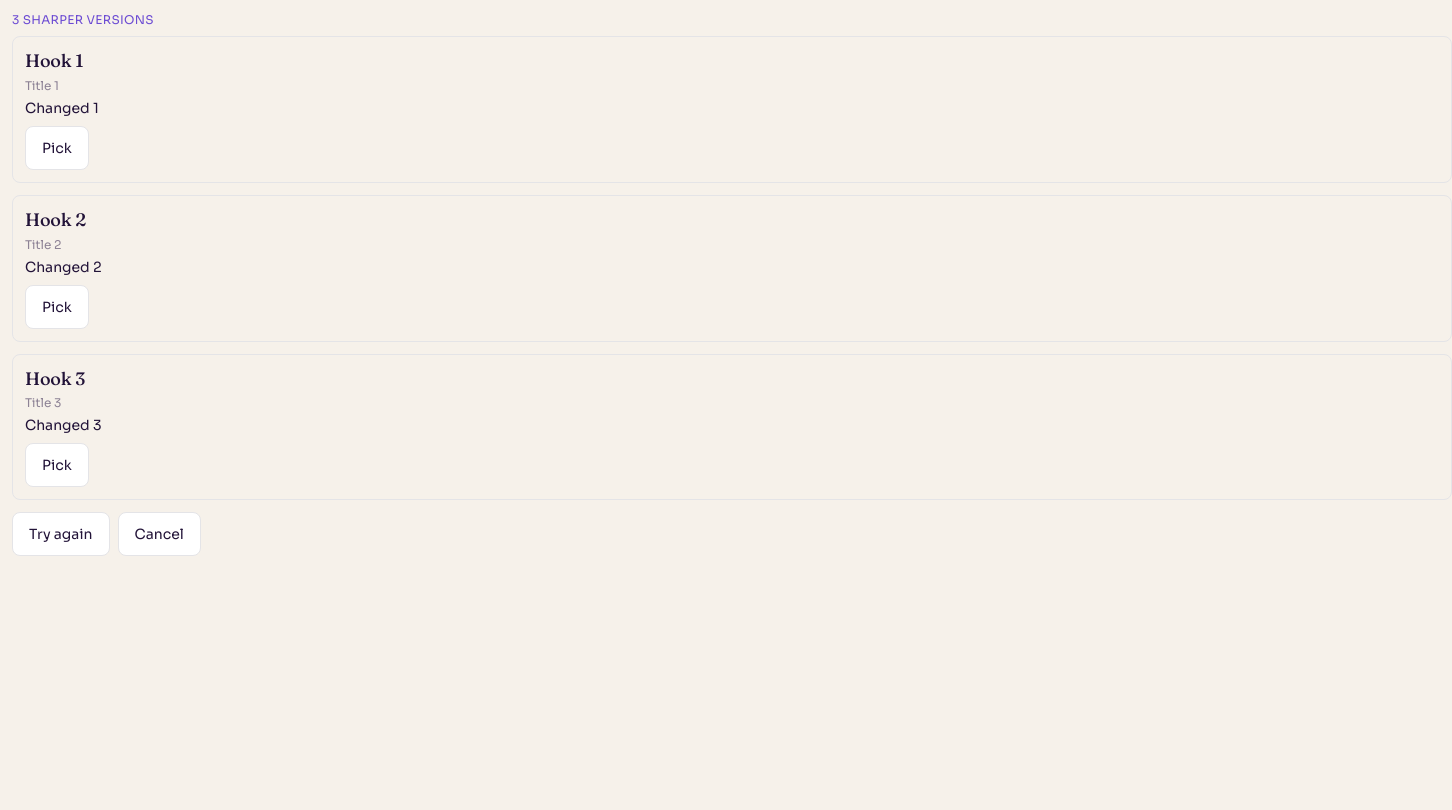
Scenario: SharpenPanel › shows an action error
What coordinates should you click on to do the following:
click the button "Pick" below "Hook 1"
I would click on:
 (57, 148)
Its box is left=25, top=126, right=89, bottom=170.
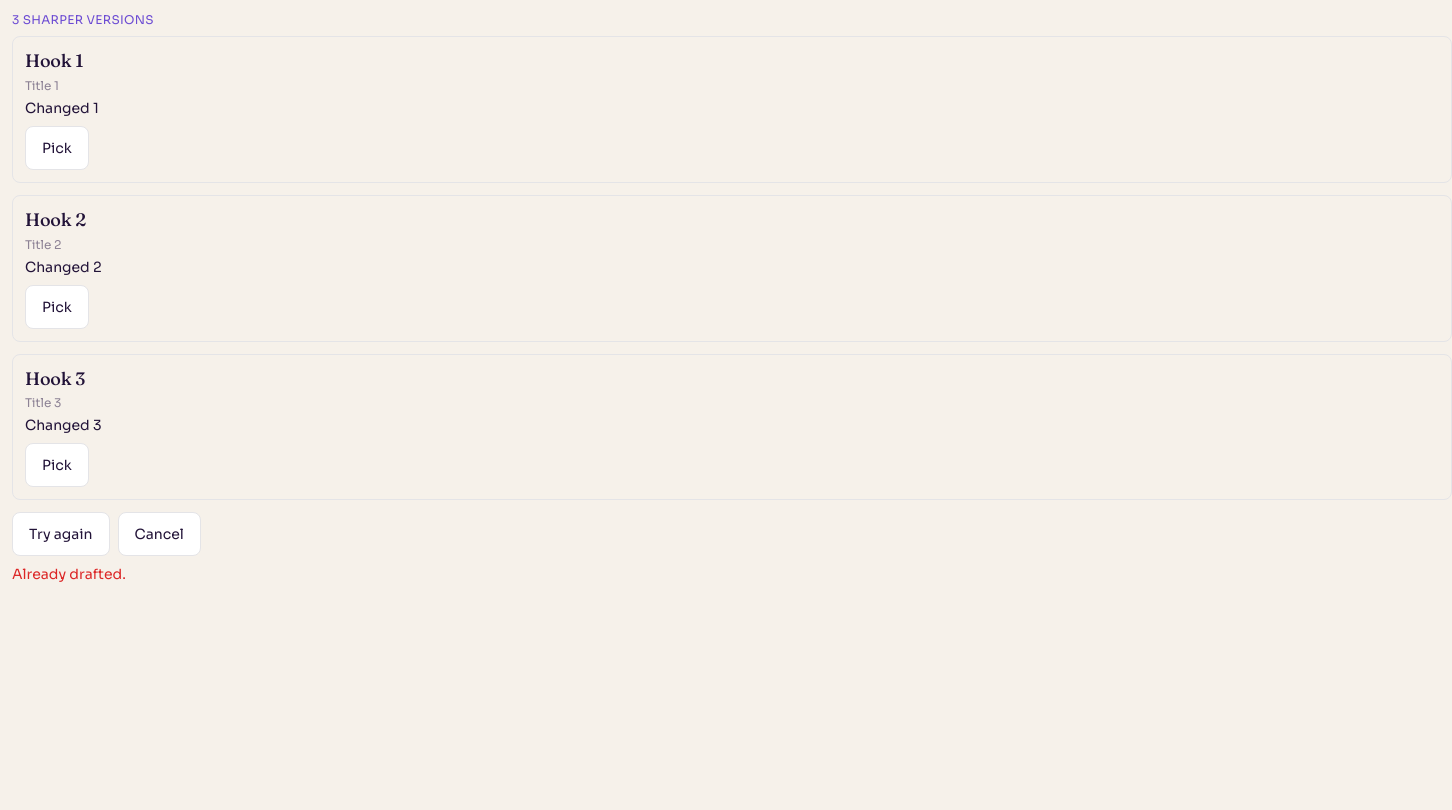
Now the message reads "Already drafted.", box left=12, top=565, right=126, bottom=583
